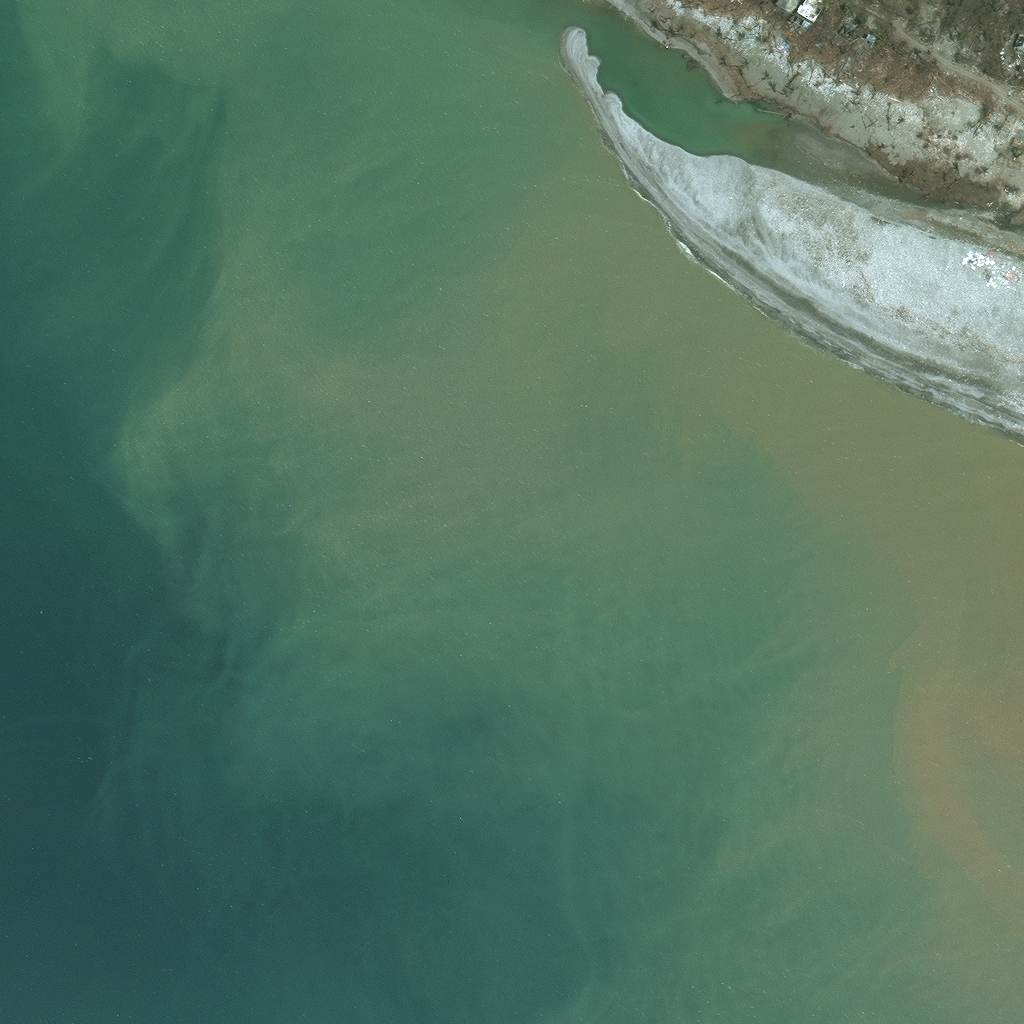destroyed: (899, 51, 925, 79), (851, 39, 877, 67), (841, 64, 865, 85), (883, 44, 904, 65), (840, 16, 861, 37), (928, 76, 948, 97), (992, 149, 1007, 169), (952, 87, 968, 105), (971, 93, 985, 109), (1012, 27, 1023, 47), (979, 124, 993, 139)
major_damage: (789, 12, 816, 34)
unclassified: (633, 0, 669, 16), (609, 3, 625, 20), (1012, 169, 1023, 183)
